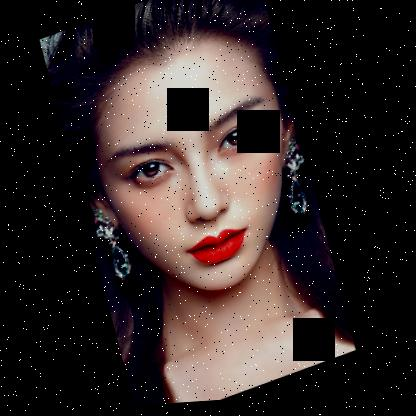Female: (46, 7, 340, 332)
